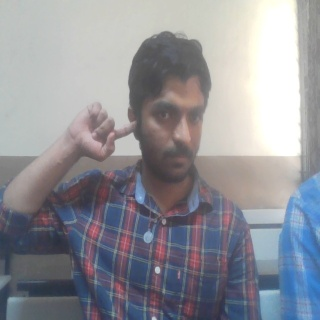Deaf: (64, 100, 138, 163)
Face: (126, 31, 212, 192)
